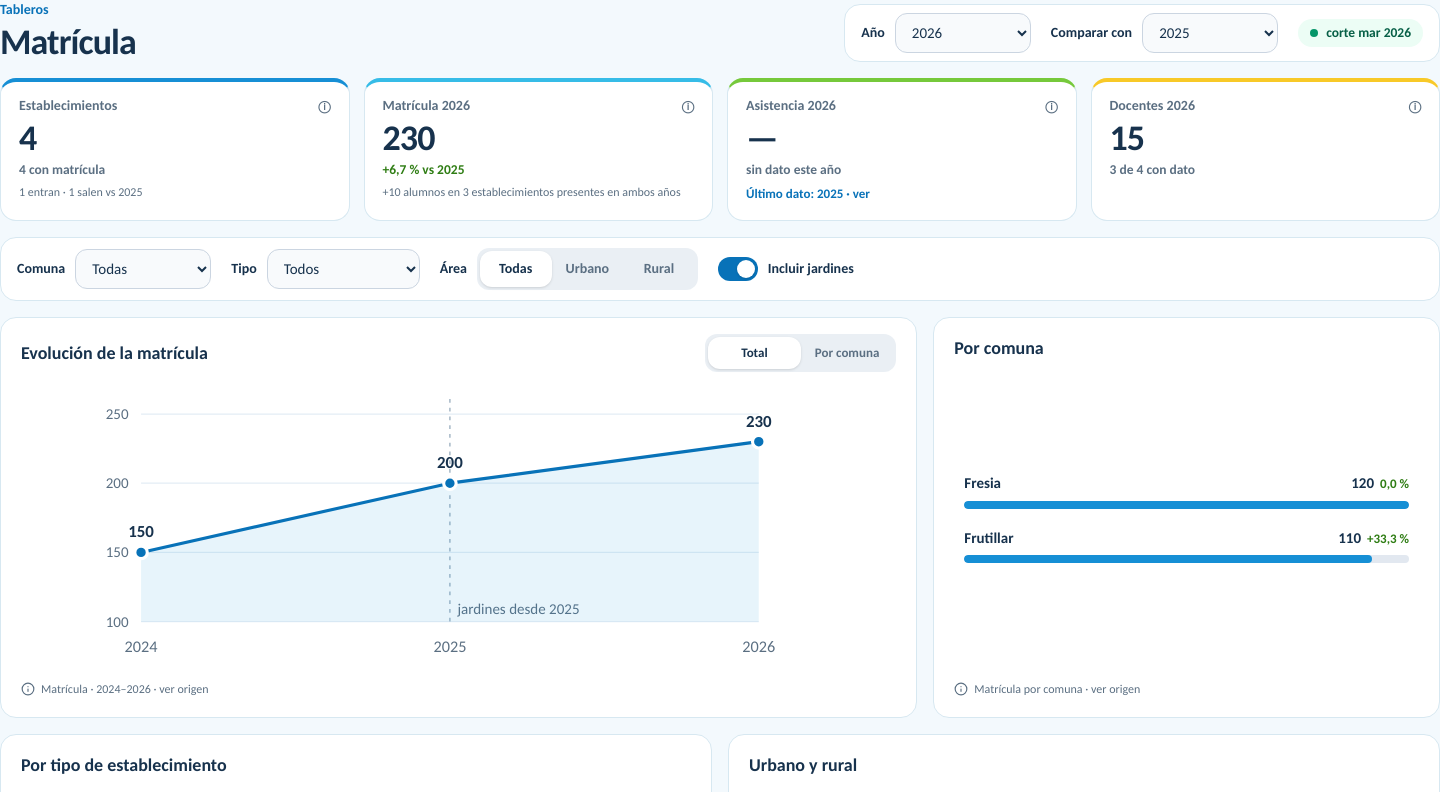
Test: FE24: tablero de matrícula › FE24-F: el origen del dato se abre desde la tarjeta y se cierra con Escape
Expected: the heading "Matrícula" is shown, [0,22,136,62]
Click the button "Matrícula 2026 ⓘ": (426, 106) [378,96,698,116]
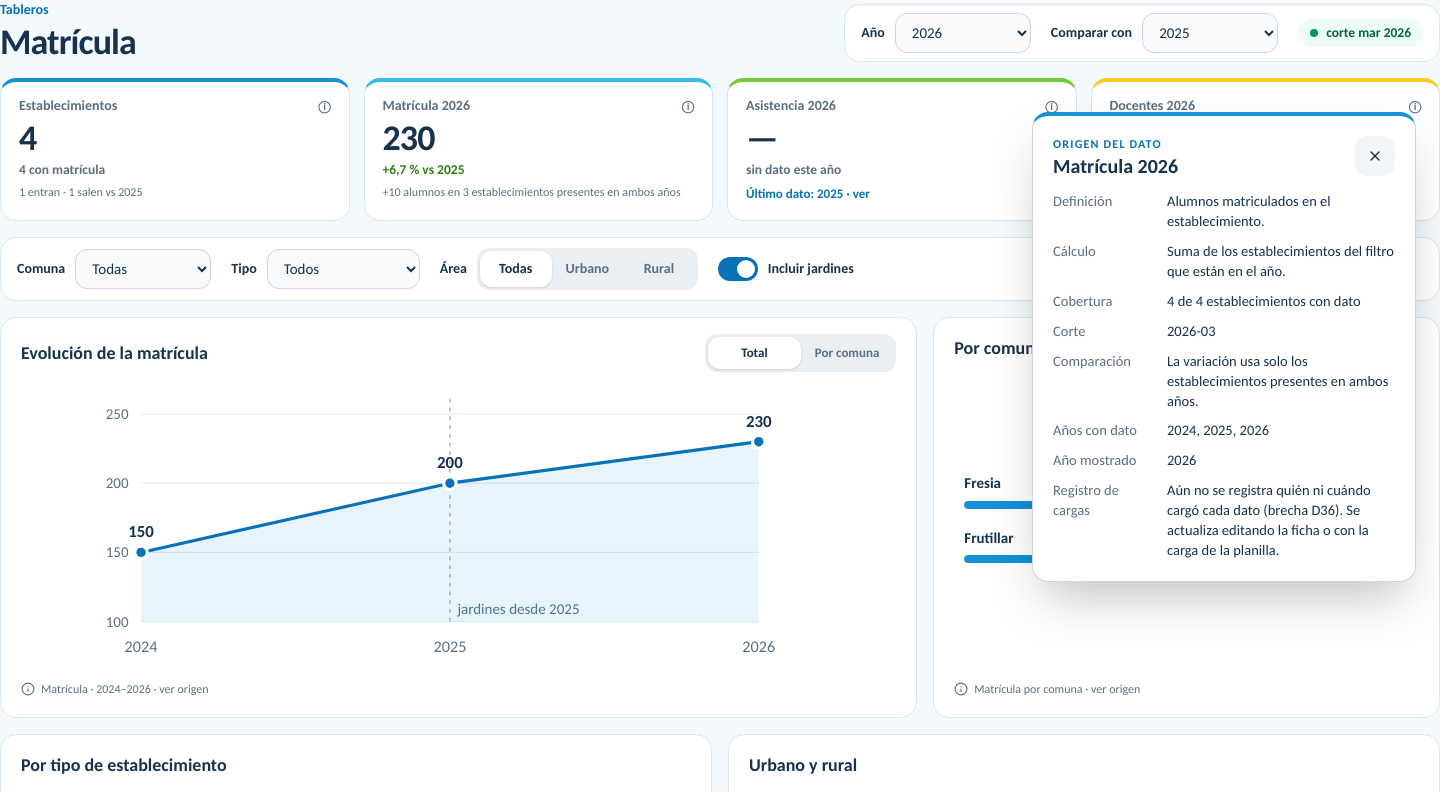
Expected: the text "Matrícula 2026" is shown, [1053,152,1178,180]
Expected: the text "2024, 2025, 2026" is shown, [1167,421,1269,439]
Expected: the text "solo los establecimientos presentes en ambos años" is shown, [1167,352,1388,410]
Press Escape
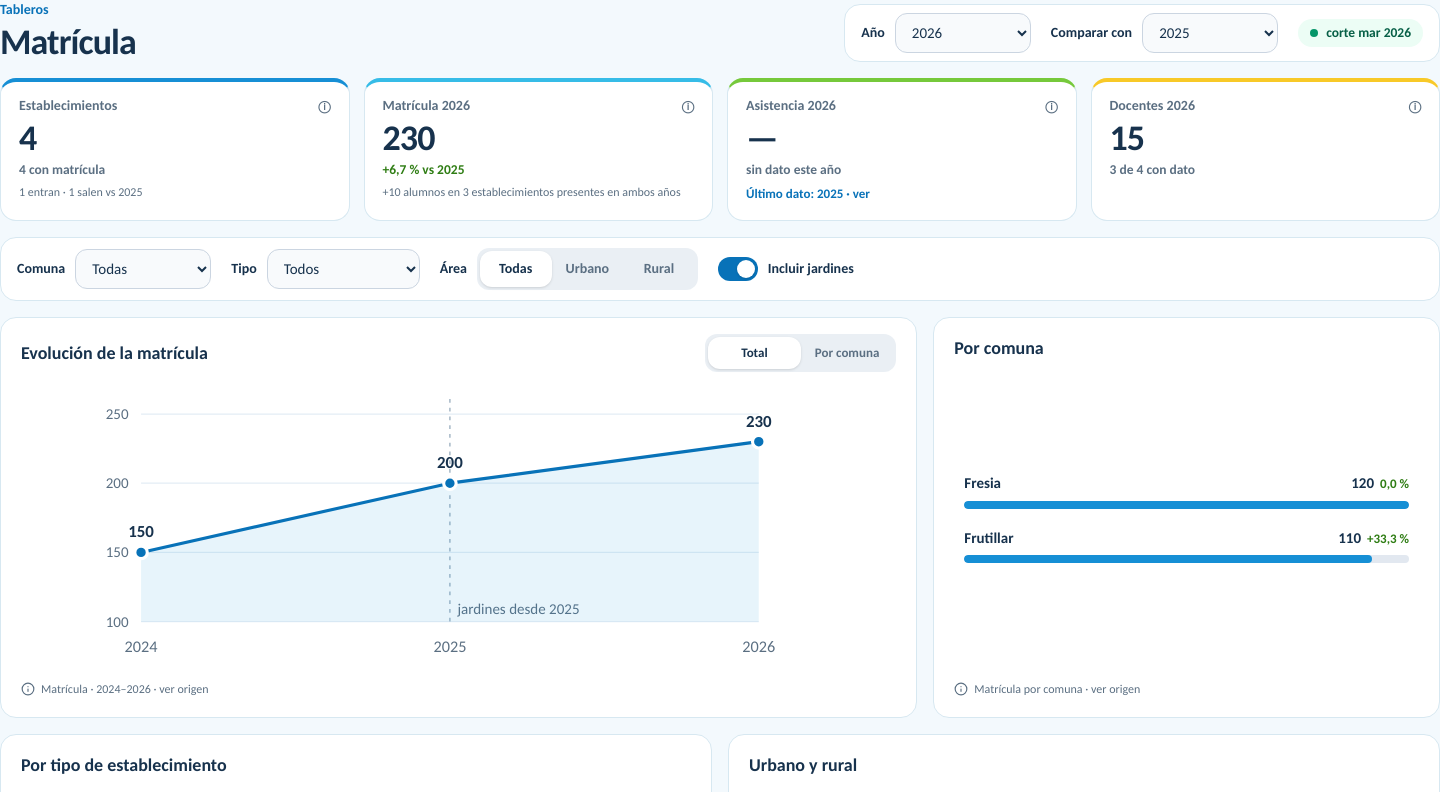
Expected: the text "Origen del dato" is gone
